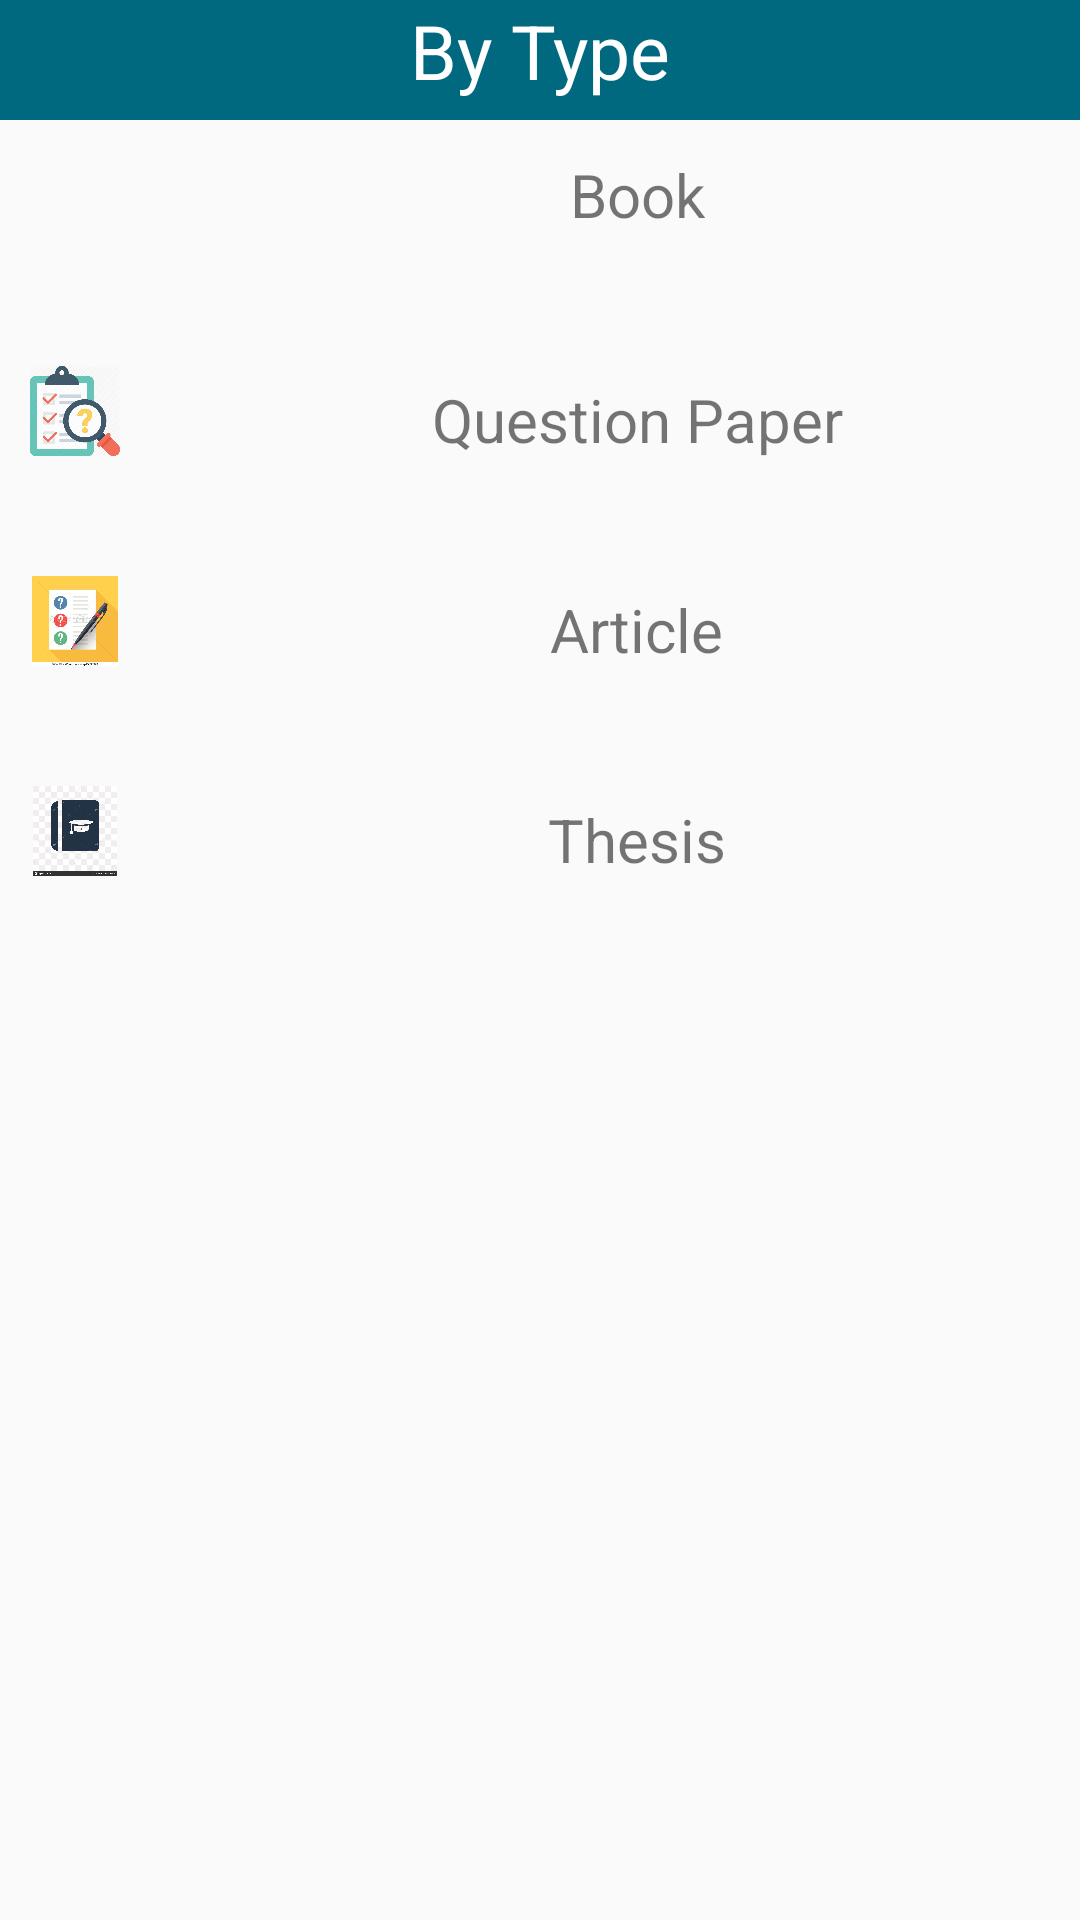

Named icons in this screenshot (1080 x 1920) and their centers, (x,y):
article: (75,621)
questionpaper: (75,411)
thesis: (75,836)
